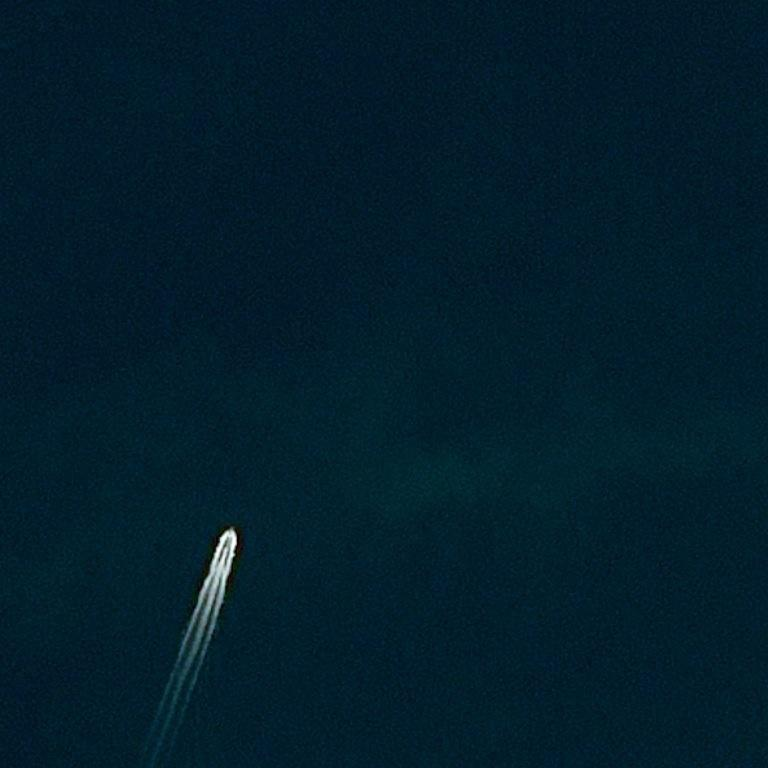ship: (229, 522, 236, 539), (233, 525, 234, 528), (4, 533, 5, 535), (75, 530, 76, 531)
